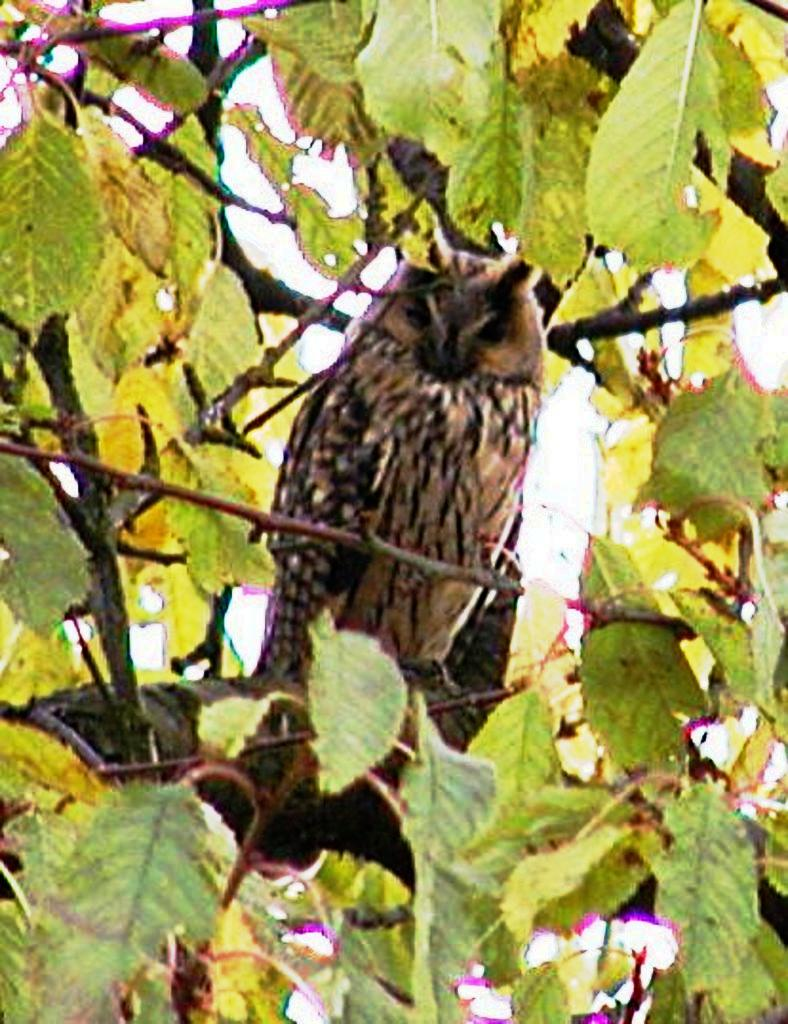Owl: (219, 209, 569, 727)
